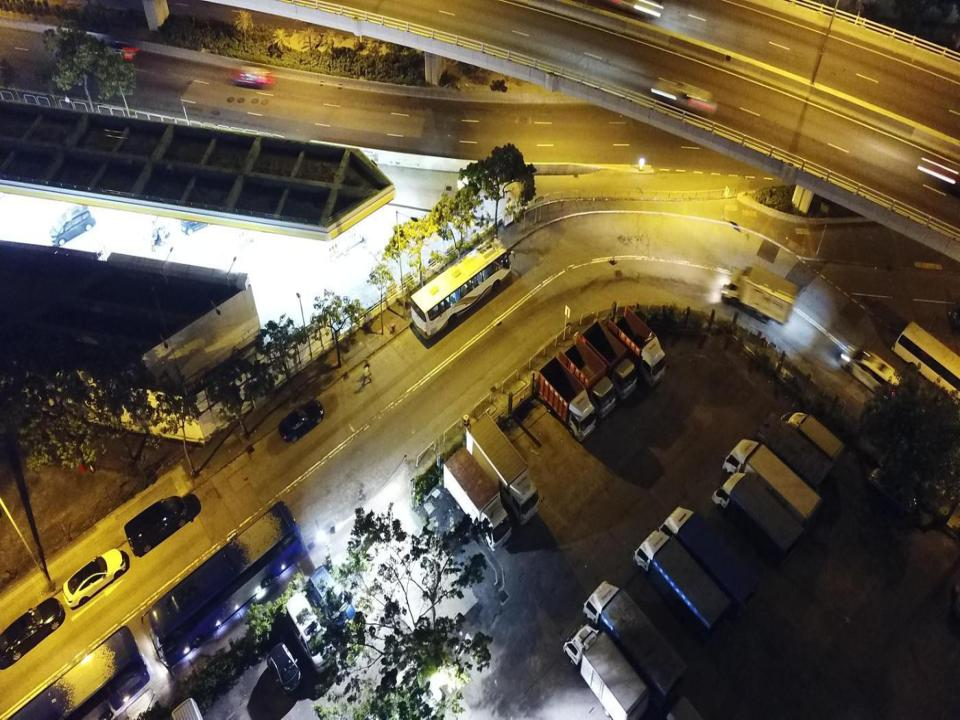bus: (150, 499, 303, 668), (0, 625, 151, 718), (410, 238, 514, 339), (891, 320, 960, 406)
car: (0, 597, 64, 667), (62, 548, 128, 608), (868, 468, 920, 514), (653, 78, 717, 114), (278, 400, 324, 442), (267, 644, 302, 694), (229, 66, 276, 88), (95, 40, 137, 60)
truck: (582, 579, 687, 708), (659, 504, 760, 622), (635, 529, 732, 645), (723, 439, 824, 540), (713, 472, 805, 570), (465, 412, 539, 526), (563, 623, 649, 719), (444, 446, 512, 551), (756, 412, 834, 501), (559, 334, 617, 420), (724, 262, 799, 326), (540, 356, 595, 442), (609, 306, 666, 388), (583, 320, 638, 403), (780, 411, 847, 476)
van: (285, 590, 336, 672), (125, 494, 188, 556), (308, 566, 357, 630), (839, 348, 900, 399)
